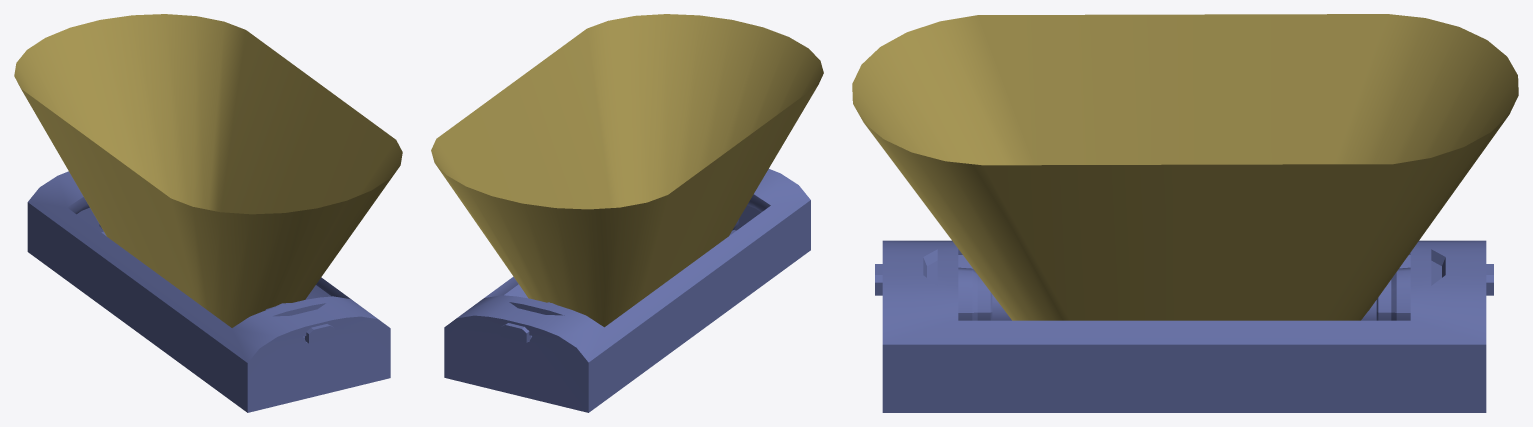
The model's file is obj_spaceship_ceilinglight_on.fbx.
The picture shows the model from 3 angles, left to right: view 1: azimuth 30°, elevation 25°; view 2: azimuth 150°, elevation 25°; view 3: azimuth 270°, elevation 25°; orthographic projection. The views are drawn at different scales.
Visible parts, largest first — view 1: obj_spaceship_ceilinglight_on; view 2: obj_spaceship_ceilinglight_on; view 3: obj_spaceship_ceilinglight_on.
Part boxes in pixels (x1=…): obj_spaceship_ceilinglight_on: x1=14, y1=14, x2=402, y2=412; obj_spaceship_ceilinglight_on: x1=431, y1=14, x2=823, y2=412; obj_spaceship_ceilinglight_on: x1=852, y1=14, x2=1518, y2=412.
Size of the model in its own units: 4.79 by 4.07 by 8.83.
